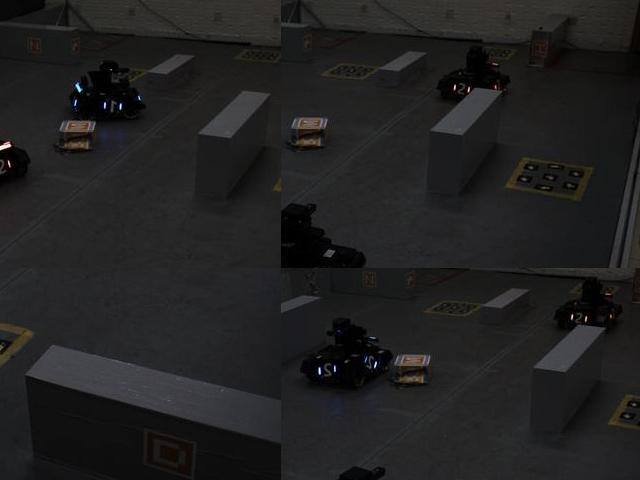armor: (100, 93, 124, 118), (567, 307, 591, 329), (315, 361, 339, 381), (449, 79, 472, 98), (0, 155, 14, 179), (364, 354, 381, 373)
